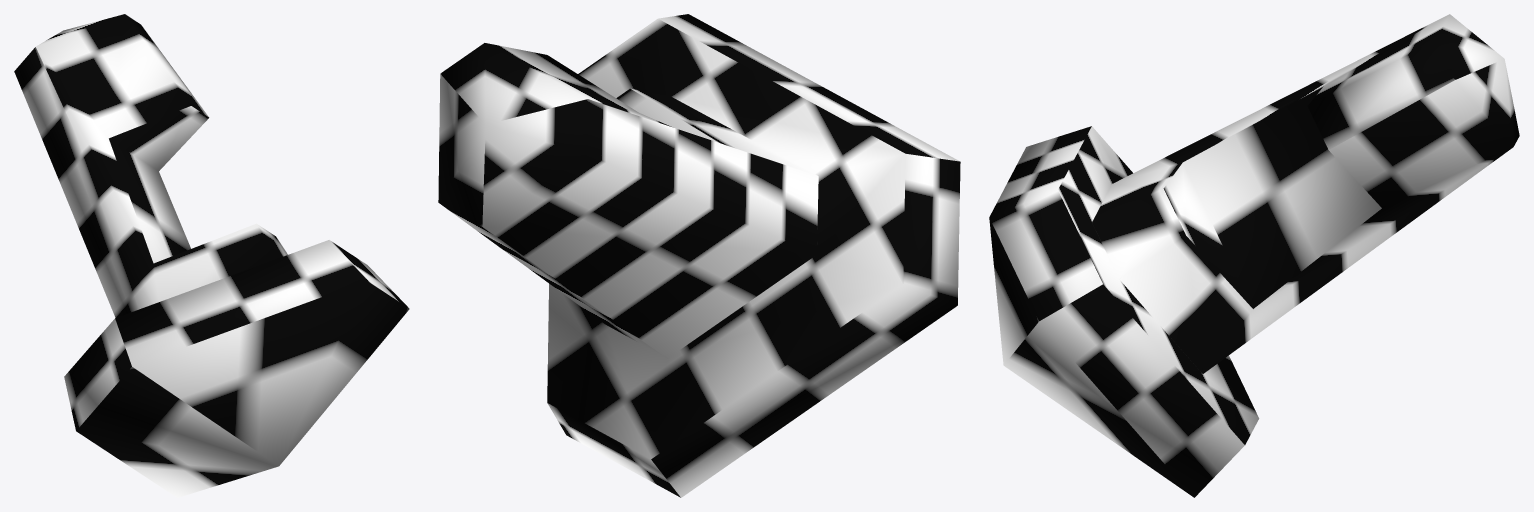
Rendered from initqu8.dae.
The picture shows the model from 3 angles, left to right: view 1: azimuth 30°, elevation 25°; view 2: azimuth 150°, elevation 25°; view 3: azimuth 270°, elevation 25°; orthographic projection. The views are drawn at different scales.
Visible parts, largest first — view 1: item; view 2: item; view 3: item.
Part boxes in pixels (x1,y1,x2,y2): item: [14, 14, 409, 497]; item: [438, 14, 960, 497]; item: [989, 14, 1519, 497].
Size of the model in its own units: 1.18 by 1.55 by 1.46.
1 material, 1 textured.
